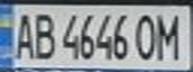4: (57, 9, 81, 61), (93, 9, 115, 61)
6: (112, 10, 133, 62), (78, 10, 96, 61)
A: (9, 8, 36, 61)
B: (30, 9, 57, 61)
M: (151, 9, 184, 62)
O: (133, 10, 160, 62)
